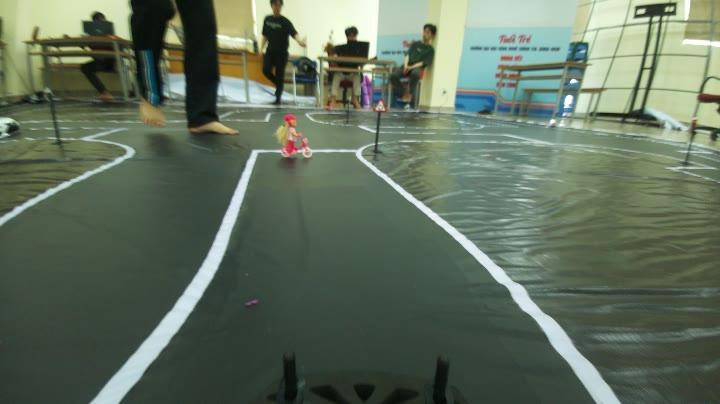pedestrian: (276, 114, 320, 168)
